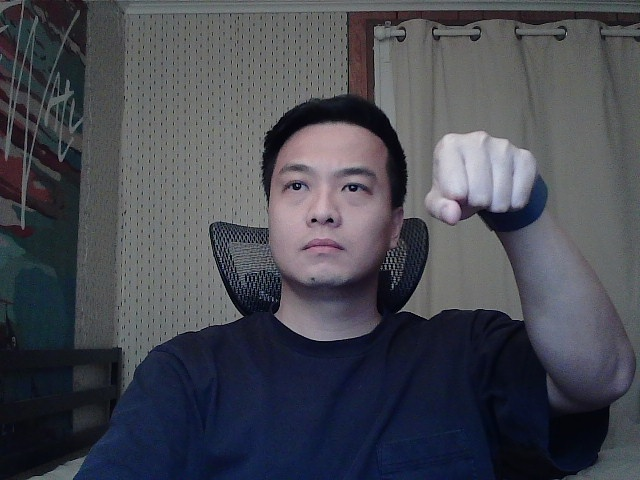Yes: (420, 127, 553, 232)
